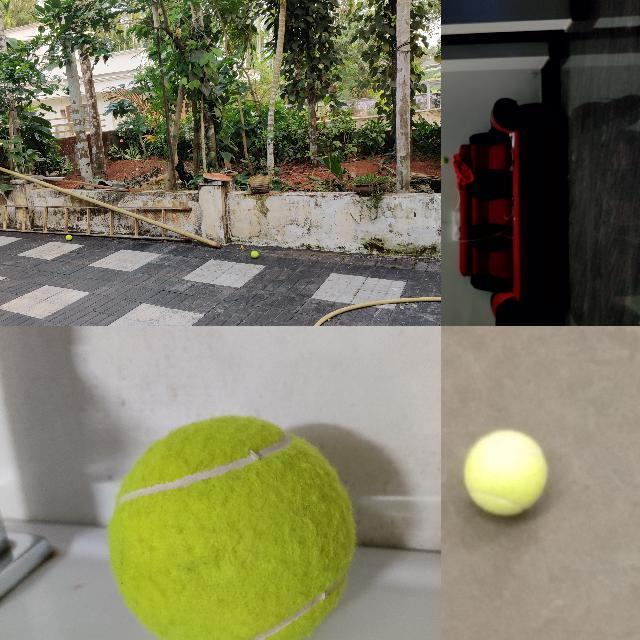tennis-ball: (104, 413, 361, 639), (464, 429, 548, 518), (441, 157, 449, 166), (250, 251, 258, 258), (65, 234, 71, 240)
